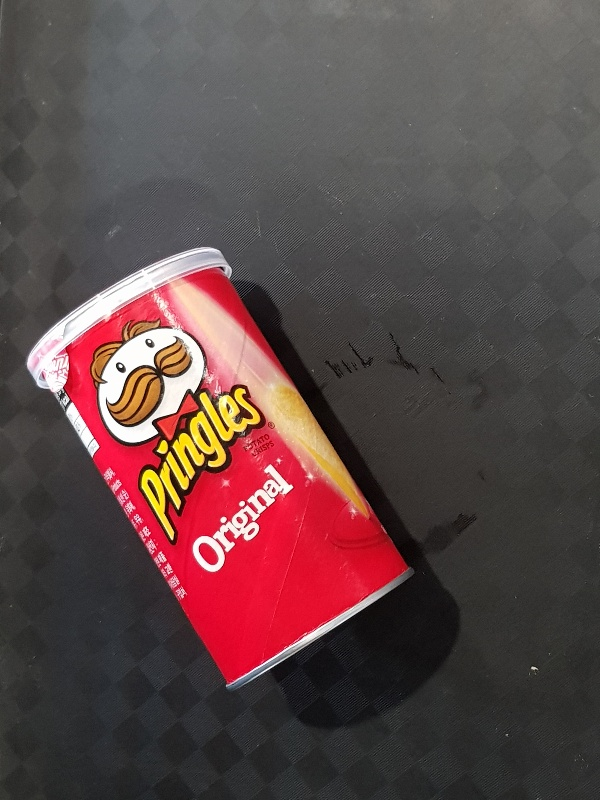Pringles Original: (22, 242, 412, 694)
